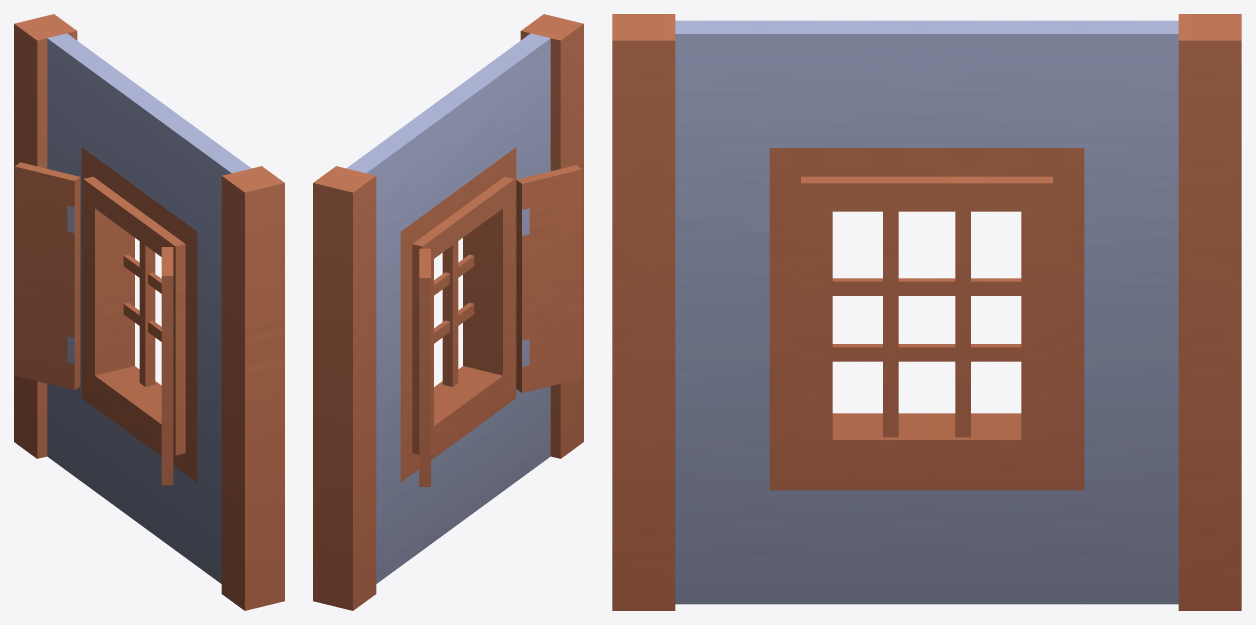
File: wallWindowShutters.fbx
3 renders of one model, left to right at view 1: azimuth 30°, elevation 25°; view 2: azimuth 150°, elevation 25°; view 3: azimuth 270°, elevation 25°, orthographic. The views are drawn at different scales.
Visible parts, largest first — view 1: wallWindowShutters, shutter.001, shutter, detail.001; view 2: wallWindowShutters, shutter, detail.001, shutter.001; view 3: wallWindowShutters, detail.001.
Part boxes in pixels (left/top/right/bottom): wallWindowShutters: left=14, top=14, right=284, bottom=610; shutter.001: left=14, top=162, right=80, bottom=390; shutter: left=161, top=247, right=173, bottom=485; detail.001: left=123, top=241, right=161, bottom=386; wallWindowShutters: left=313, top=14, right=583, bottom=610; shutter: left=516, top=165, right=581, bottom=392; detail.001: left=434, top=241, right=474, bottom=386; shutter.001: left=419, top=248, right=430, bottom=486; wallWindowShutters: left=612, top=14, right=1241, bottom=610; detail.001: left=832, top=211, right=1021, bottom=437.
Bounding box in the file's own units: 0.2018 × 1 × 1.
